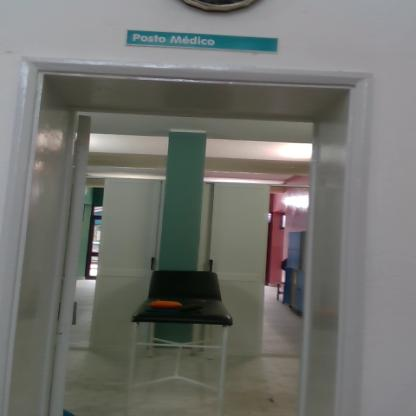open: (43, 63, 375, 407)
